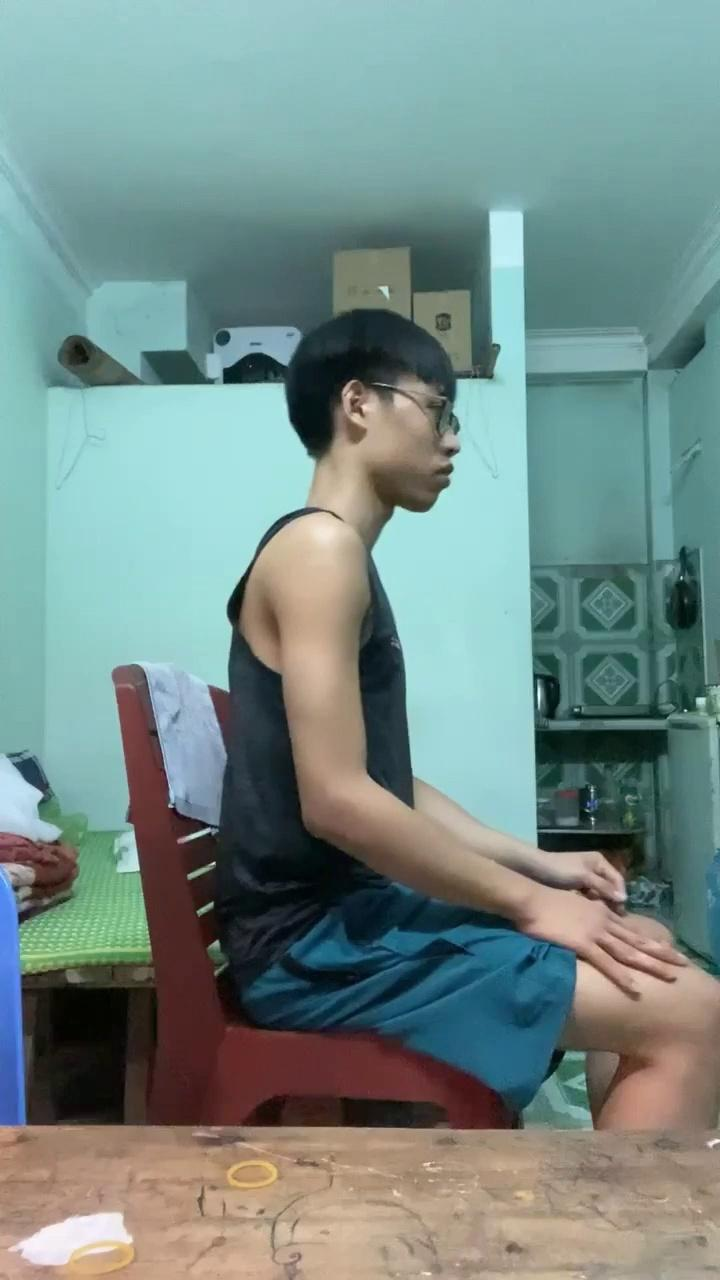GoodPosture: (216, 306, 719, 1126)
